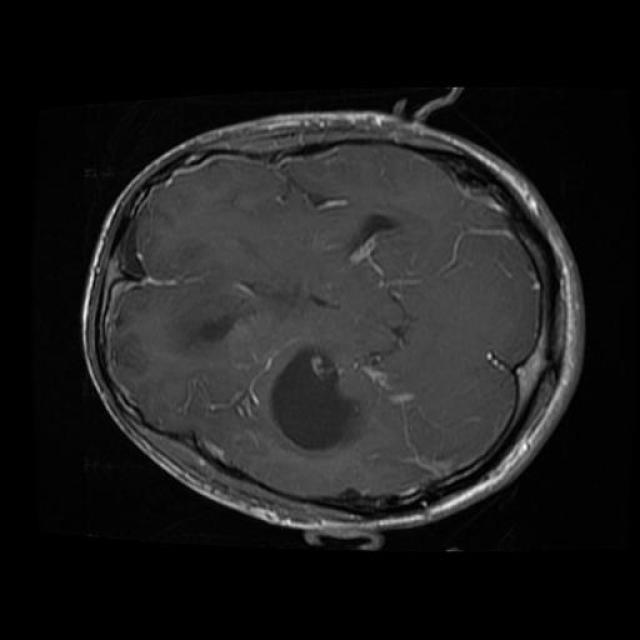Glioma: (271, 348, 355, 449)
